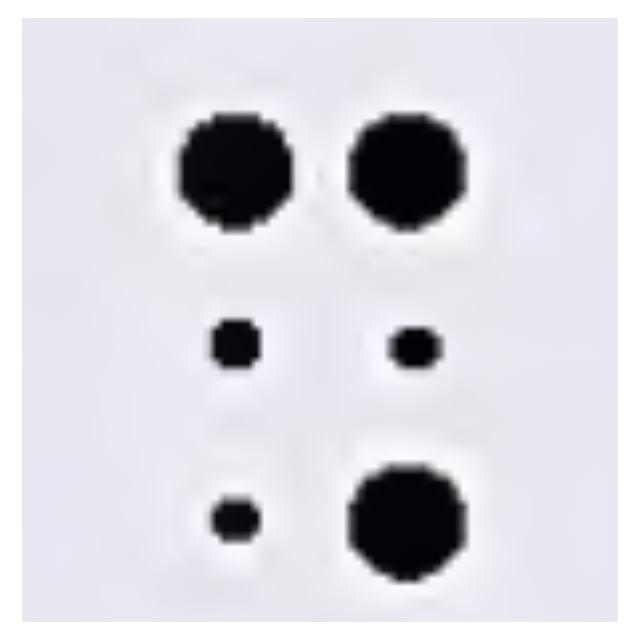one_cell_part_word_mag: (177, 107, 470, 581)
